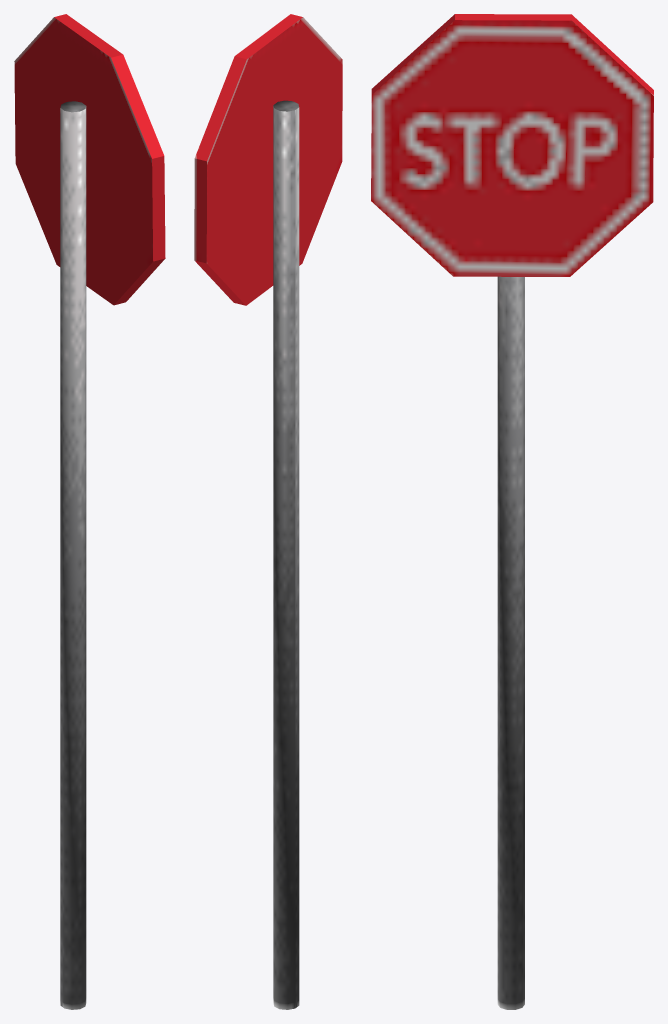
File: saunastopsign.fbx
3 renders of one model, left to right at view 1: azimuth 30°, elevation 25°; view 2: azimuth 150°, elevation 25°; view 3: azimuth 270°, elevation 25°, orthographic. The views are drawn at different scales.
Parts seen in each view (by area): view 1: Cylinder; view 2: Cylinder; view 3: Cylinder.
Part boxes in pixels (x1,y1,x2,y2): Cylinder: (14,14,165,1009); Cylinder: (194,14,342,1009); Cylinder: (371,14,653,1009).
Bounding box in the file's own units: 64.9 × 1690 × 435.
1 material, 1 textured.
